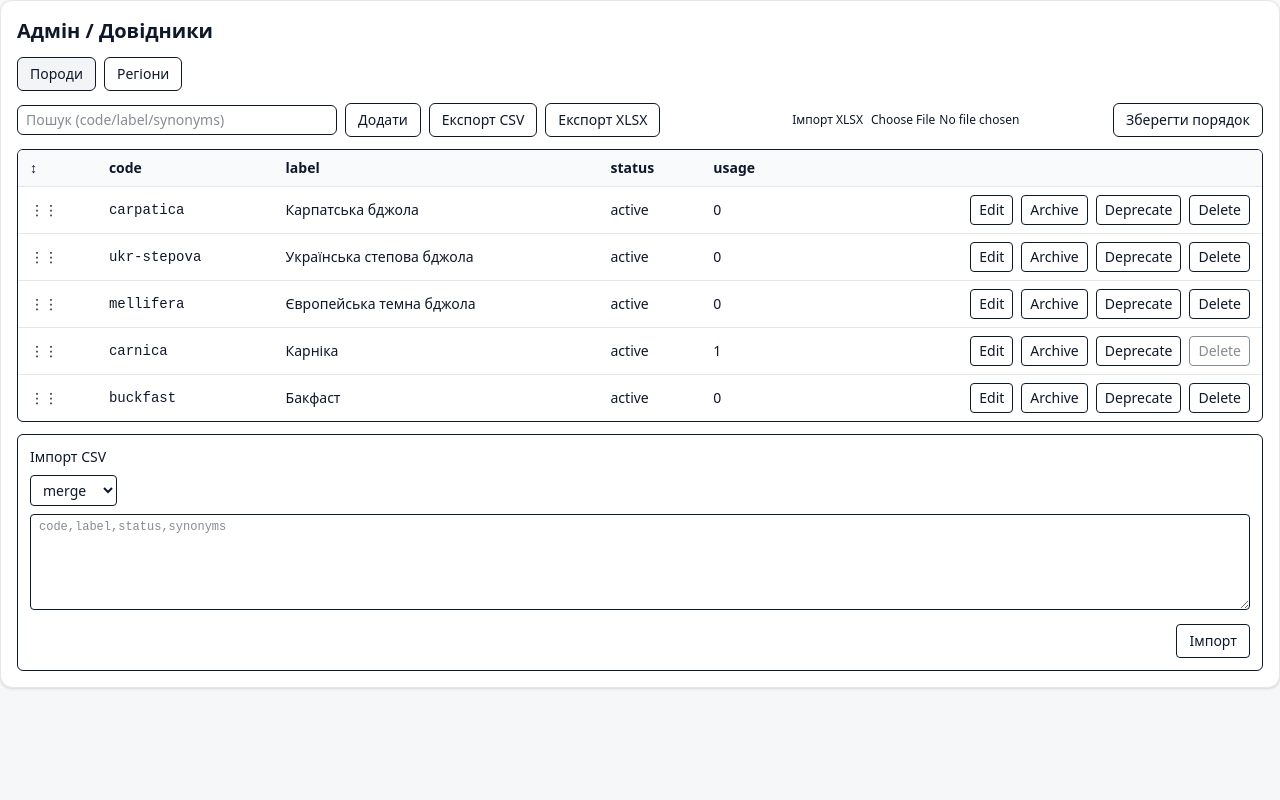
Test: AdminDictionaries › regions tab renders and blocks delete when usage>0 (synthetic)
Click the button "Регіони" at (143,74), box x1=104 y1=57 x2=182 y2=91
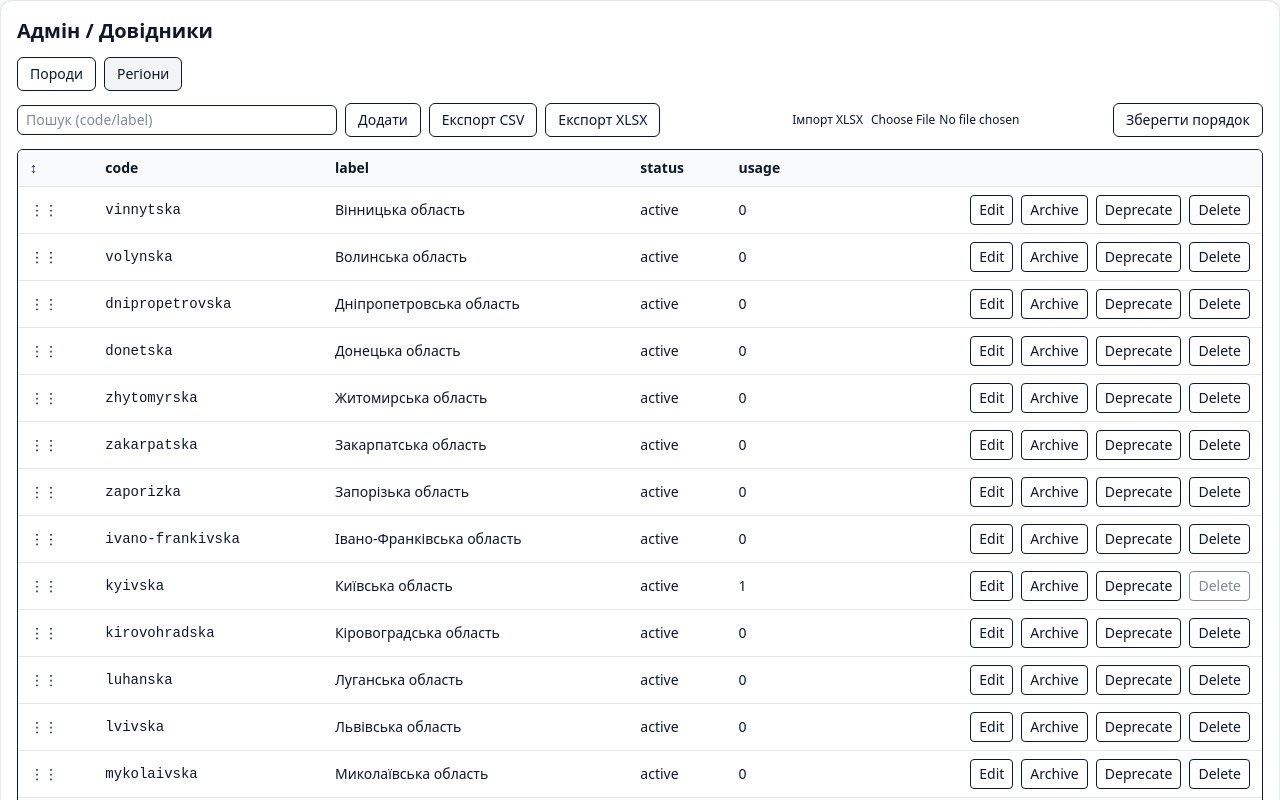
Expected: the button "Delete" in the row of "kyivska" is disabled, x1=1189 y1=571 x2=1250 y2=601
